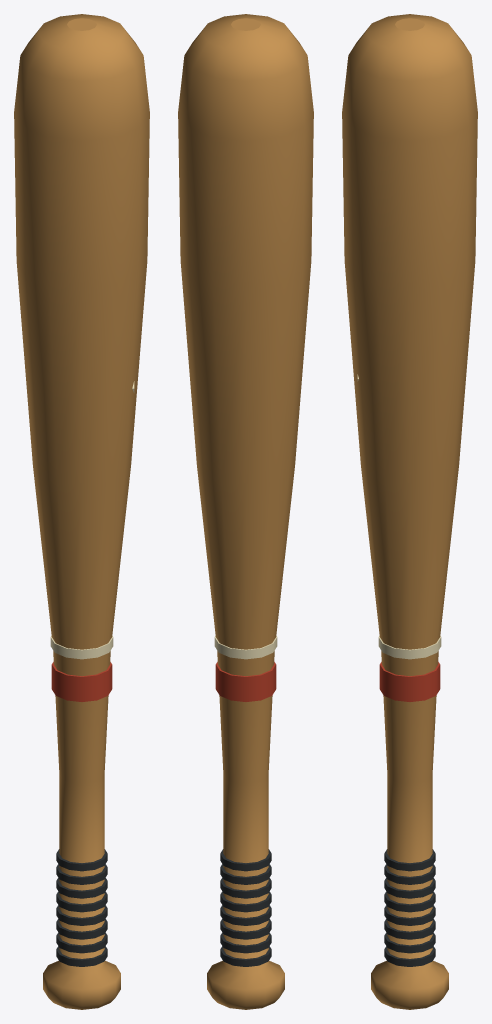
Rendered from baseball_bat_lod1.glb.
3 views of the same model, side by side, from view 1: azimuth 90°, elevation 25°; view 2: azimuth 150°, elevation 25°; view 3: azimuth 270°, elevation 25° (orthographic).
Parts seen in each view (by area): view 1: baseball_bat; view 2: baseball_bat; view 3: baseball_bat.
Boxes of the visible parts, <box> form: baseball_bat: <box>14,14,149,1009</box>; baseball_bat: <box>178,14,313,1009</box>; baseball_bat: <box>342,14,477,1009</box>.
Size of the model in its own units: 0.108 by 0.852 by 0.108.
